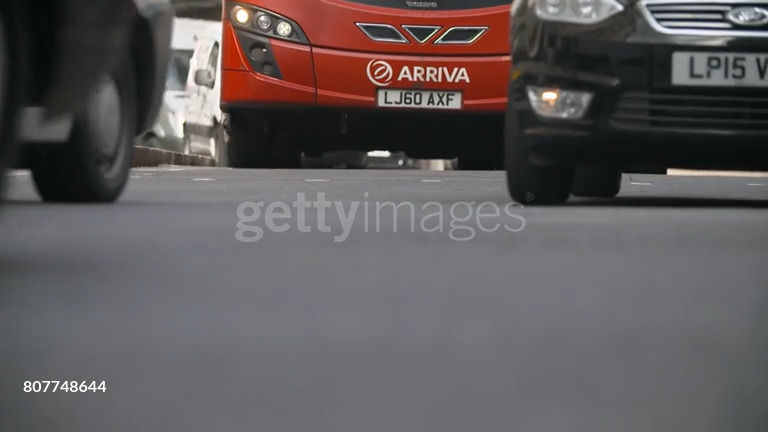car number: (670, 51, 766, 85), (375, 87, 462, 108)
